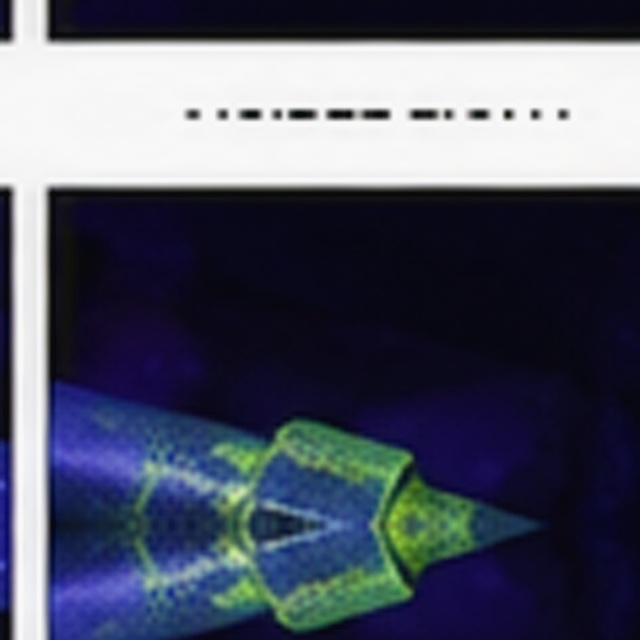hydraulic_oil_leak: (211, 420, 480, 600), (212, 494, 250, 556), (229, 558, 280, 598), (128, 476, 155, 551), (158, 450, 163, 464), (129, 521, 135, 529), (304, 522, 308, 528)
